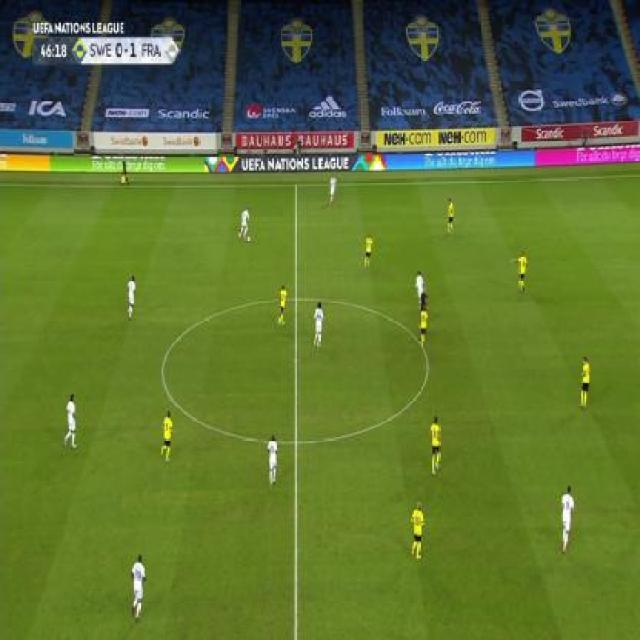ball: (247, 236, 252, 242)
player: (129, 553, 149, 622), (558, 484, 577, 555), (408, 500, 427, 563), (62, 392, 81, 451), (428, 413, 444, 476), (159, 409, 176, 463), (577, 355, 593, 411), (266, 432, 280, 486), (312, 300, 326, 348), (125, 273, 138, 319), (276, 282, 289, 327), (515, 249, 528, 294), (417, 305, 430, 350), (362, 232, 375, 271), (238, 206, 252, 242), (446, 197, 457, 234), (119, 158, 130, 186), (328, 175, 337, 206), (414, 269, 423, 297), (420, 287, 429, 310)
